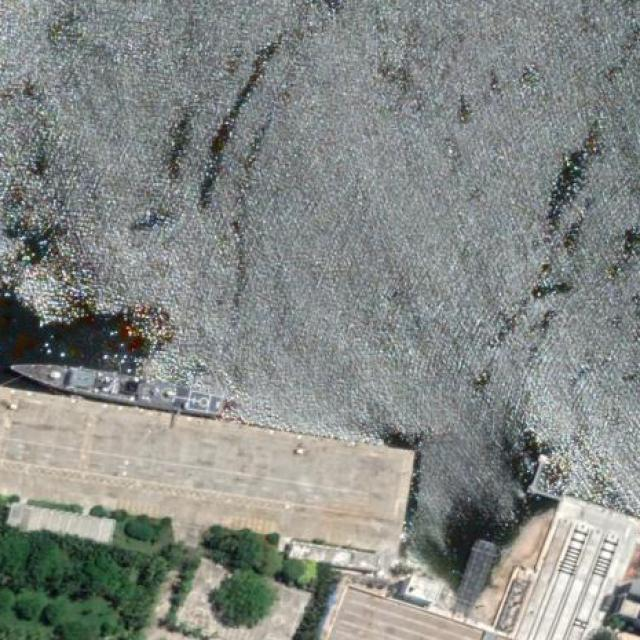Auxiliary Ships: (8, 355, 226, 420)
